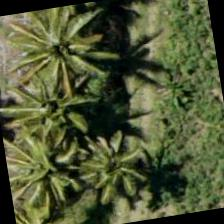Kelapa_Sawit: (6, 119, 109, 222), (5, 60, 108, 163), (61, 125, 165, 223), (12, 0, 113, 90)
